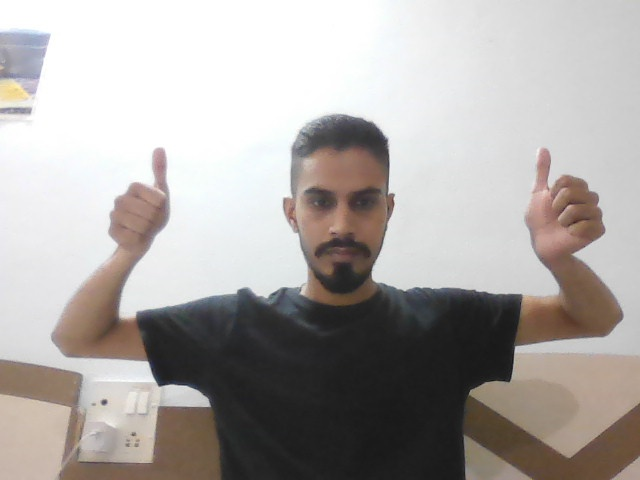ThumbsUp: (518, 145, 614, 267), (105, 142, 195, 265)
